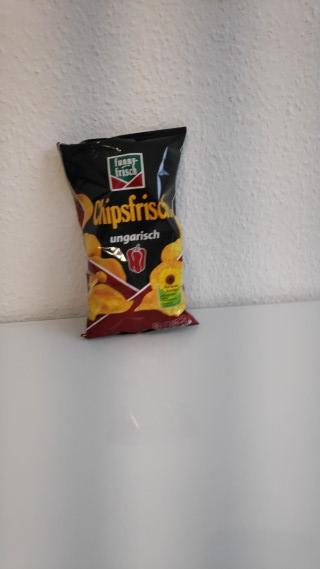chipsfrisch: (55, 124, 202, 340)
